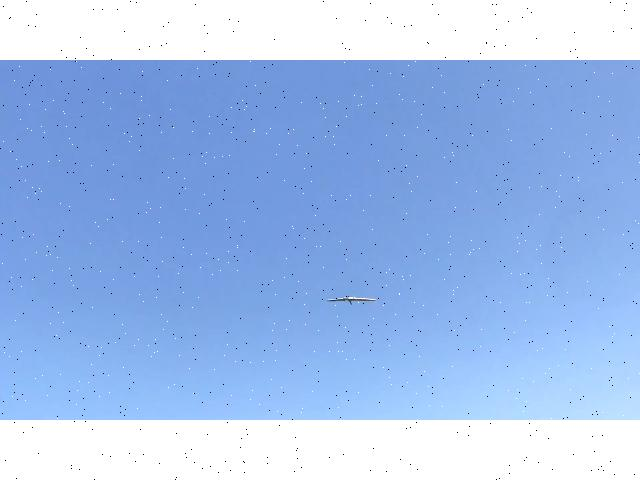Anti-Drone: (326, 290, 386, 314)
